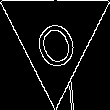O_NW: (28, 4, 82, 70)
